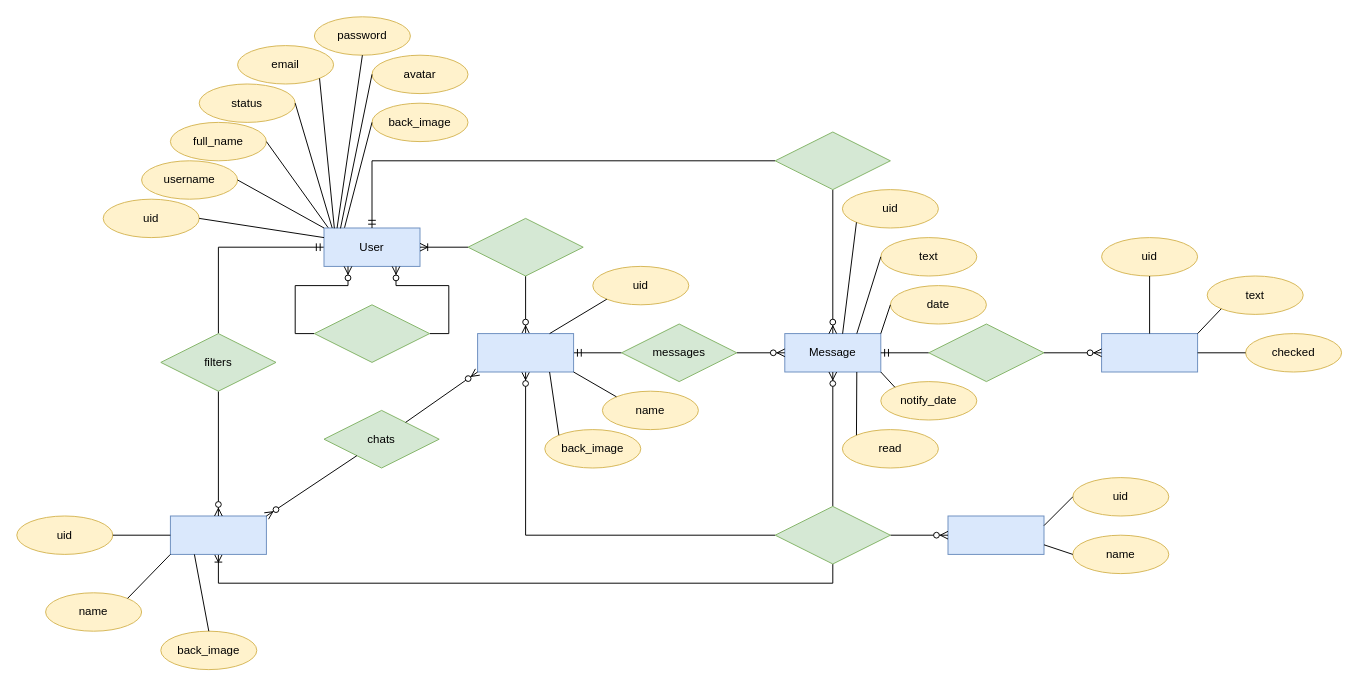
This 1358x686 diagram has some shape labels left out. The shapes that lost their labels are listed below. From the top down, each one's centre as x and y in pixels, then its label:
At point 832,160: "author".
At point 525,246: "members".
At point 371,333: "contacts".
At point 525,352: "Chat".
At point 986,352: "tasks".
At point 1149,352: "Task".
At point 217,534: "Filter".
At point 832,534: "tags".
At point 995,534: "Tag".
